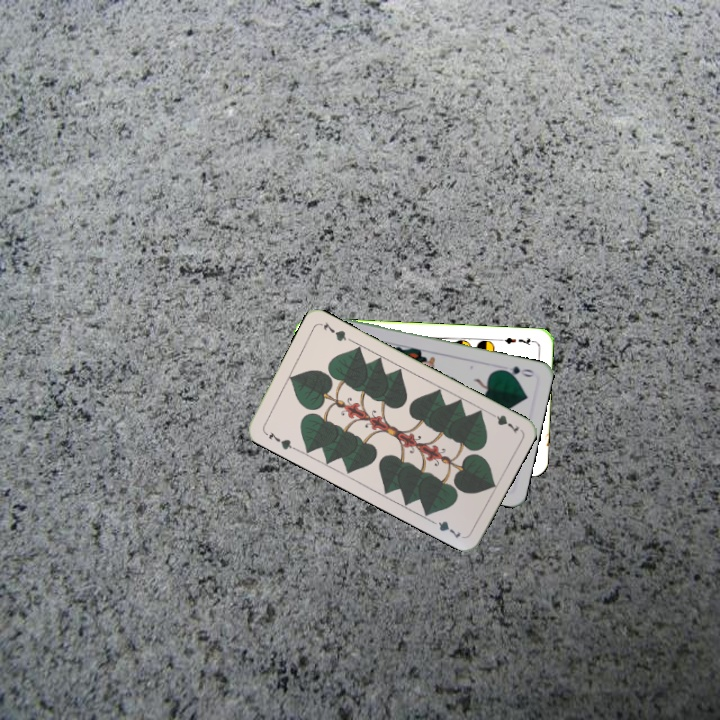E7: (497, 333, 537, 348)
G7: (484, 407, 522, 436), (260, 427, 298, 453)
GO: (496, 362, 536, 380)
